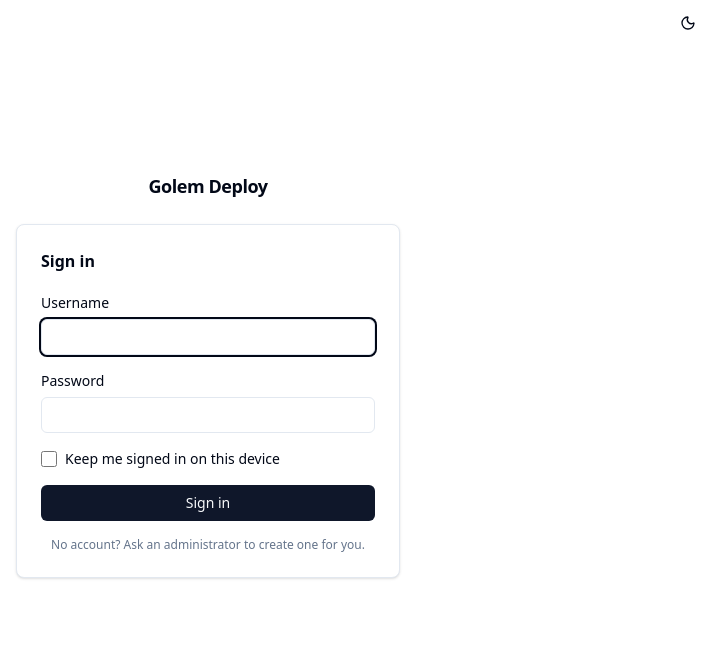
Test: login › shows a generic message for invalid credentials
In the field labelled "Username": (208, 337) [41,319,375,355], type "alice"
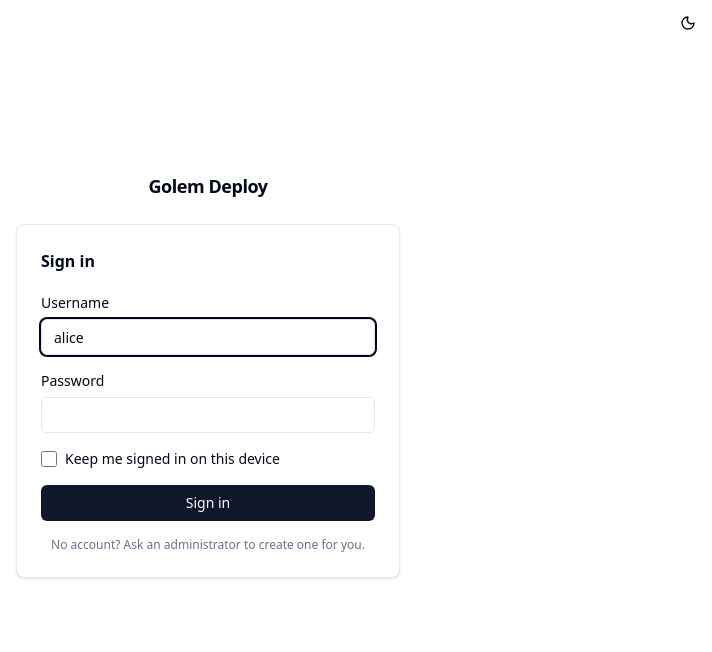
In the password field labelled "Password": (208, 415) [41,397,375,433], type "wrong password!!"
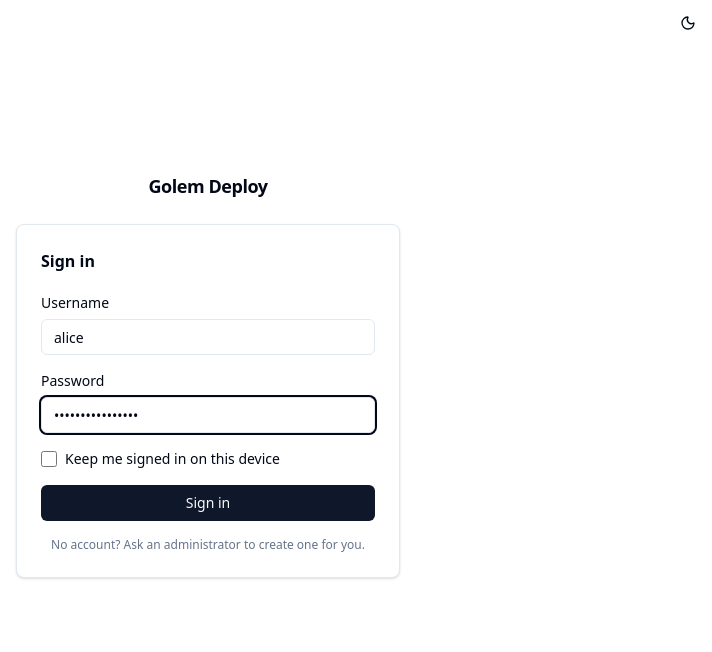
Click the button "Sign in": (208, 503) [41,485,375,521]
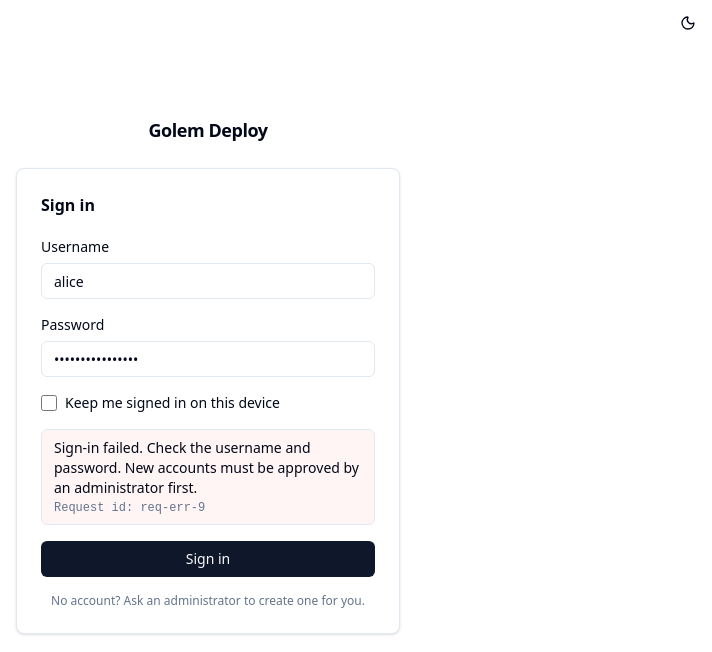
Expected: the heading "Sign in" is shown, [41,194,95,216]
Result: the text "Sign-in failed. Check the username and password" is shown at [54,438,363,497]
